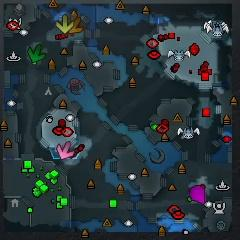p3: (189, 186, 206, 204)
x1: (57, 141, 74, 159)
x2: (56, 15, 74, 33)
x4: (28, 44, 46, 63)
x5: (67, 16, 84, 33)
